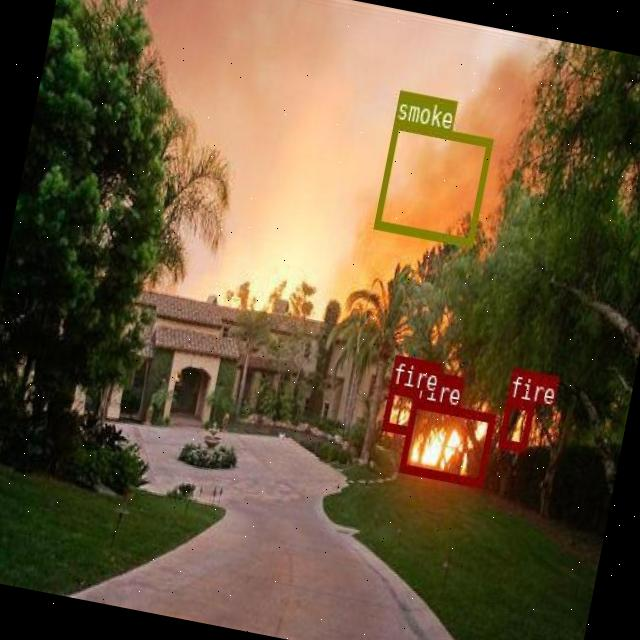fire: (400, 398, 494, 484), (497, 398, 533, 450), (382, 384, 418, 434)
smoke: (372, 120, 492, 246)
